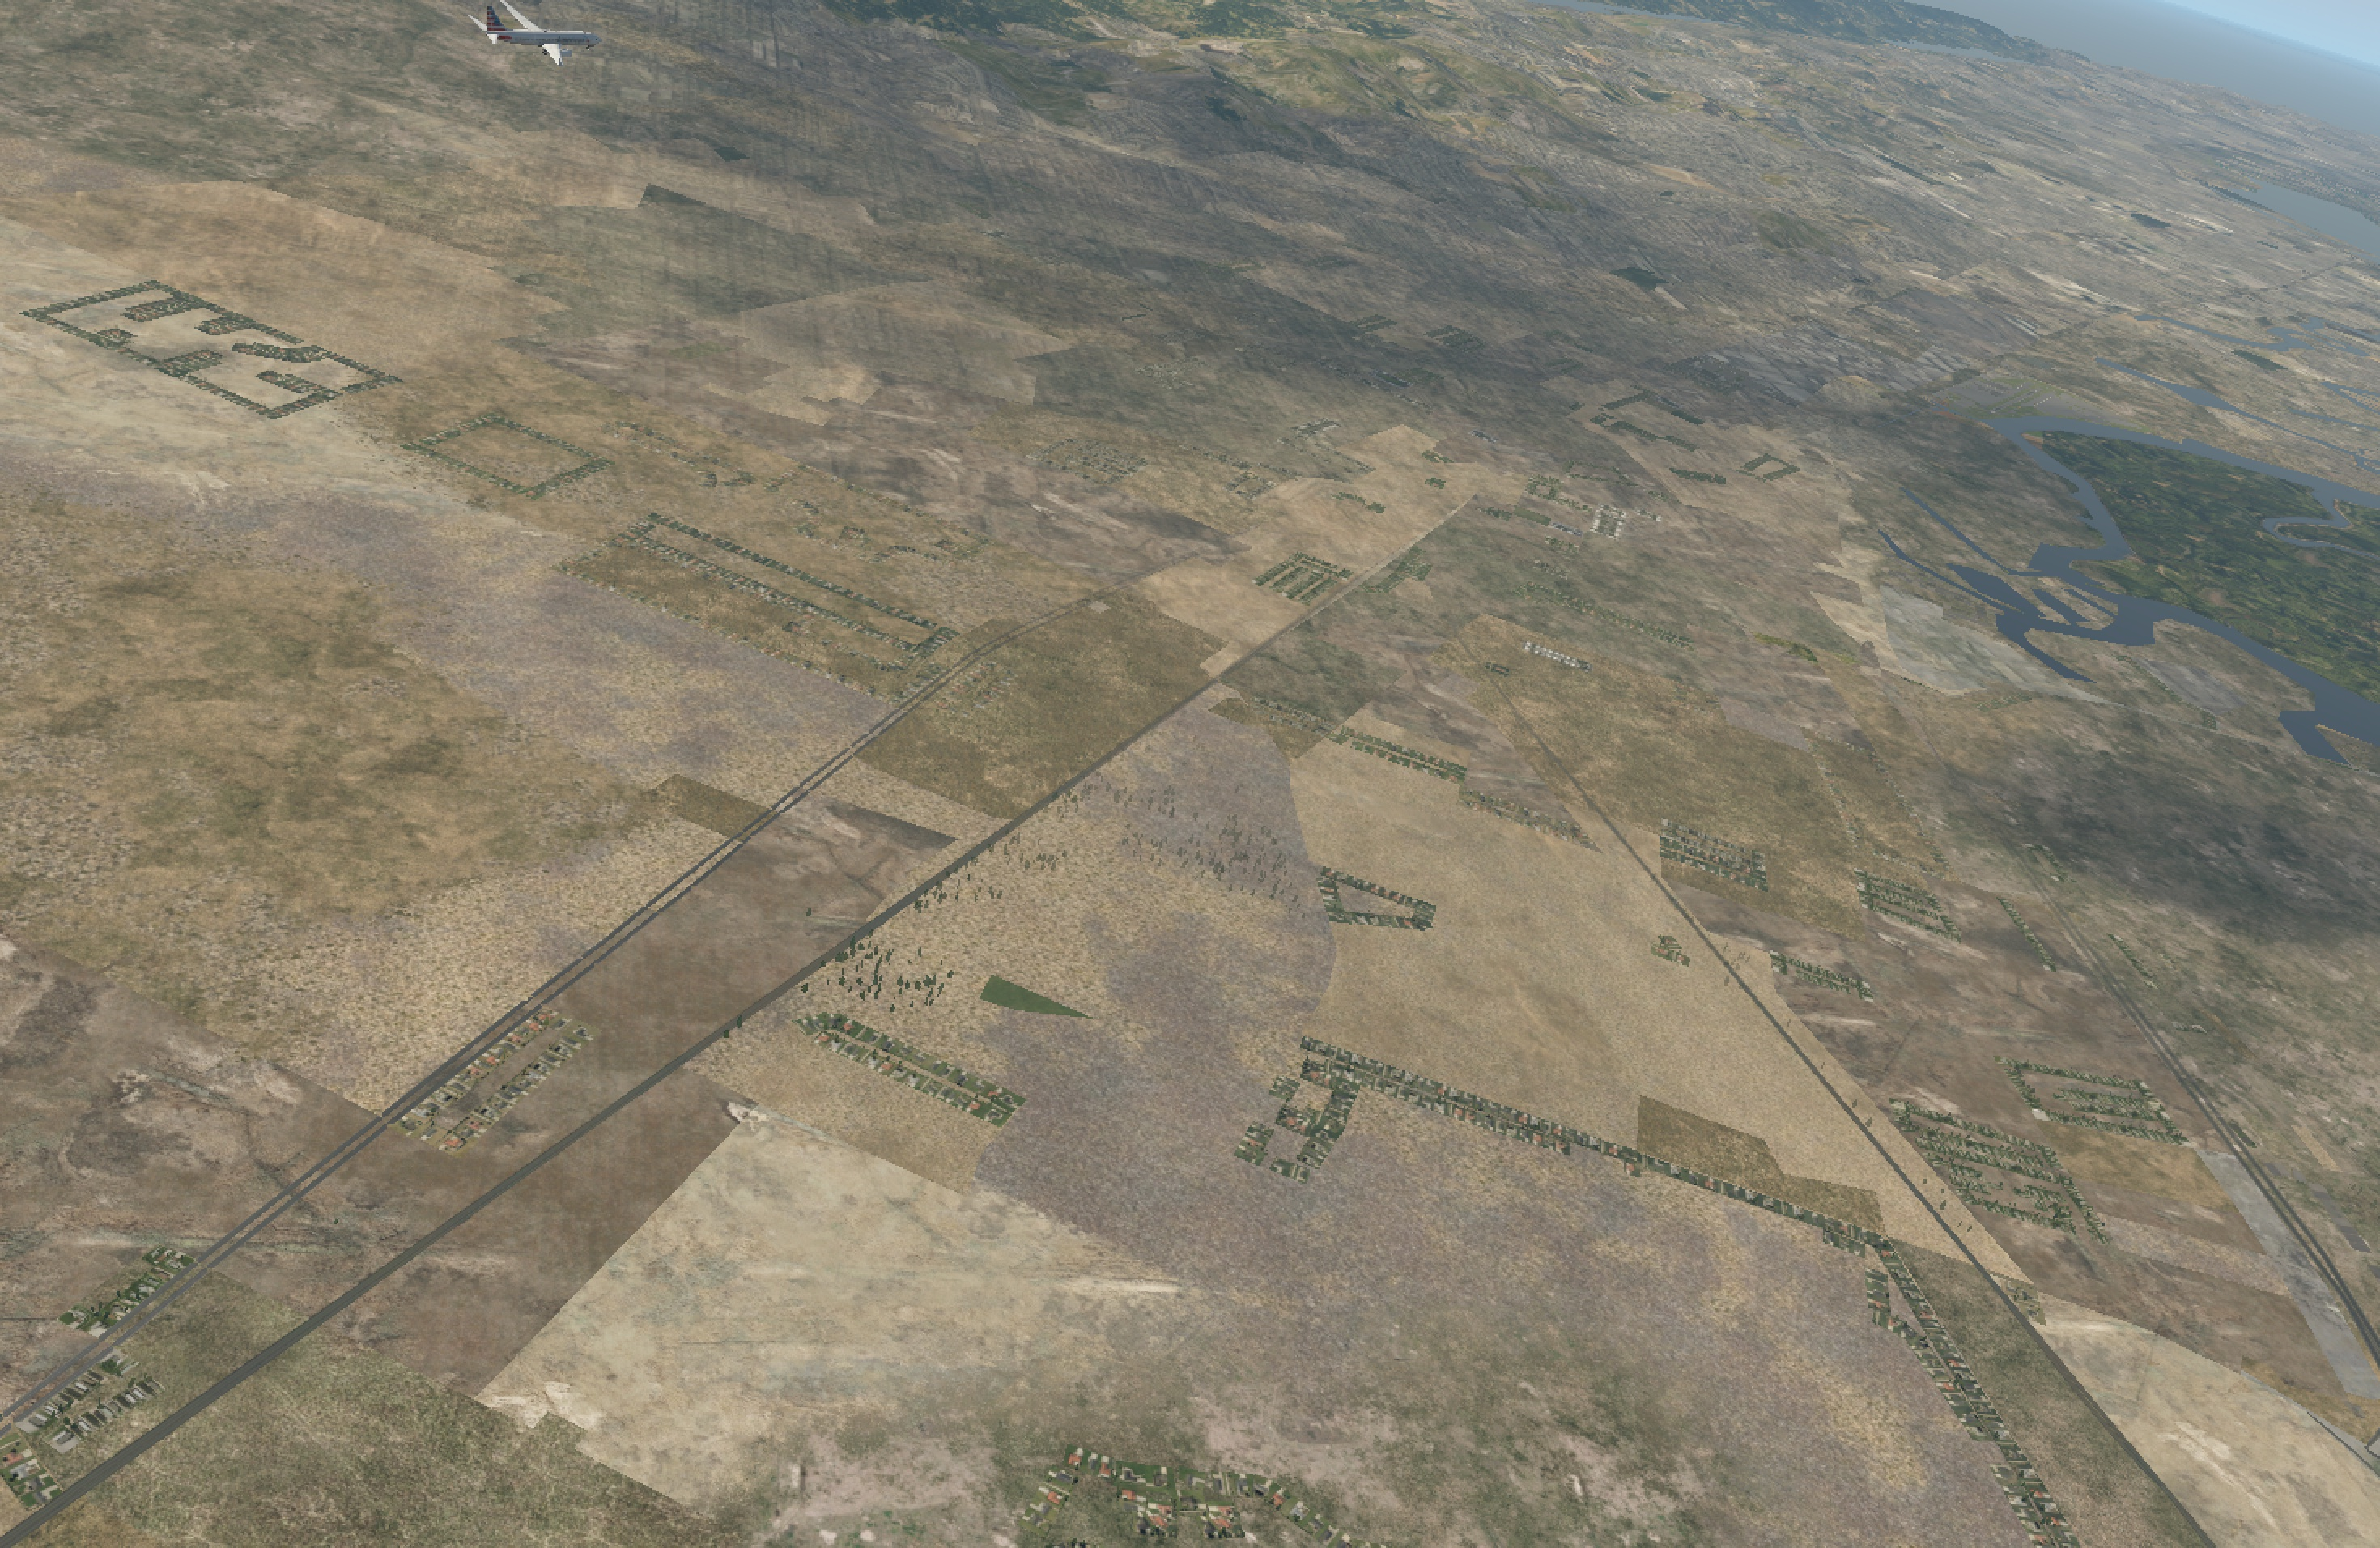aircraft: (484, 16, 609, 62)
